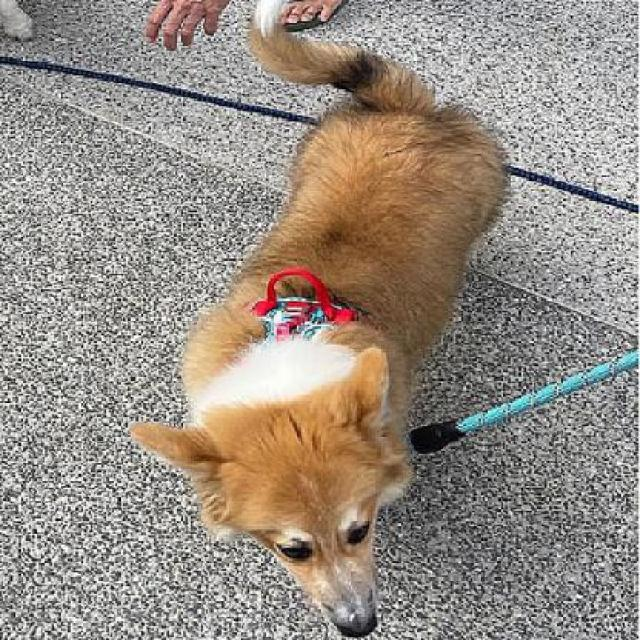Dog: (134, 1, 514, 638)
